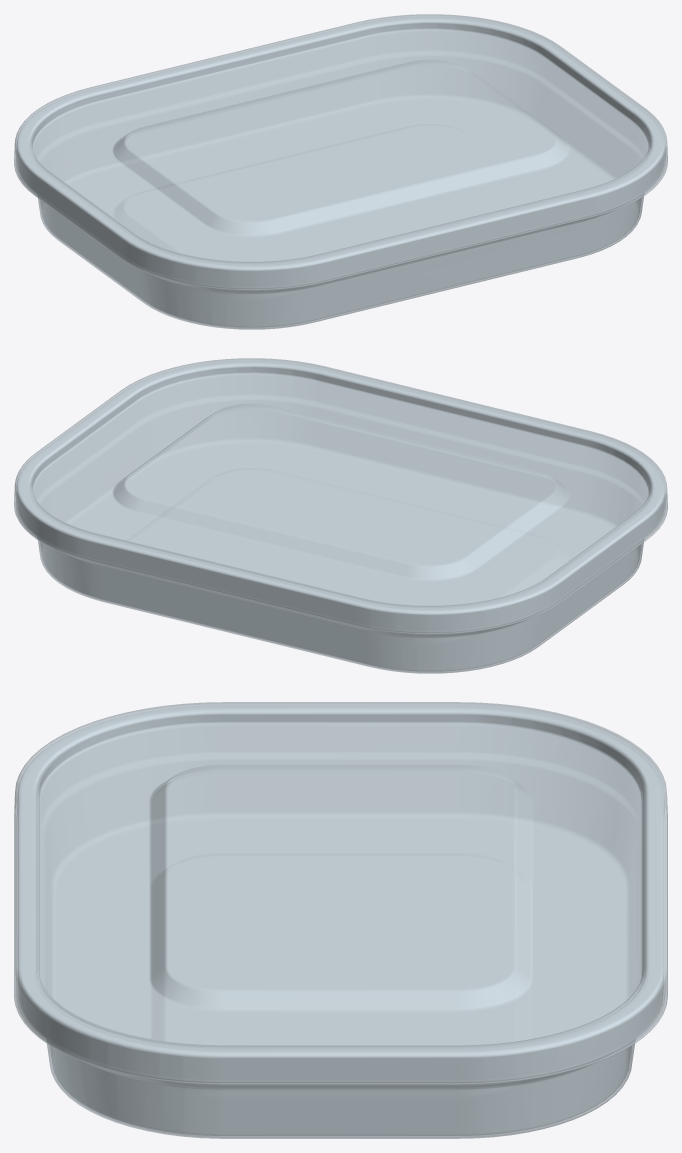
Rendered from tupperlink-500ml.glb.
3 renders of one model, top to bottom at view 1: azimuth 30°, elevation 25°; view 2: azimuth 150°, elevation 25°; view 3: azimuth 270°, elevation 25°, orthographic. The views are drawn at different scales.
Visible parts, largest first — view 1: base, tampa; view 2: base, tampa; view 3: base, tampa.
Boxes of the visible parts, x1=… form: base: x1=17, y1=17, x2=664, y2=329; tampa: x1=14, y1=14, x2=667, y2=290; base: x1=17, y1=361, x2=664, y2=673; tampa: x1=14, y1=358, x2=667, y2=634; base: x1=18, y1=705, x2=663, y2=1138; tampa: x1=14, y1=702, x2=667, y2=1084.
Bounding box in the file's own units: 0.2139 × 0.0287 × 0.1669.
